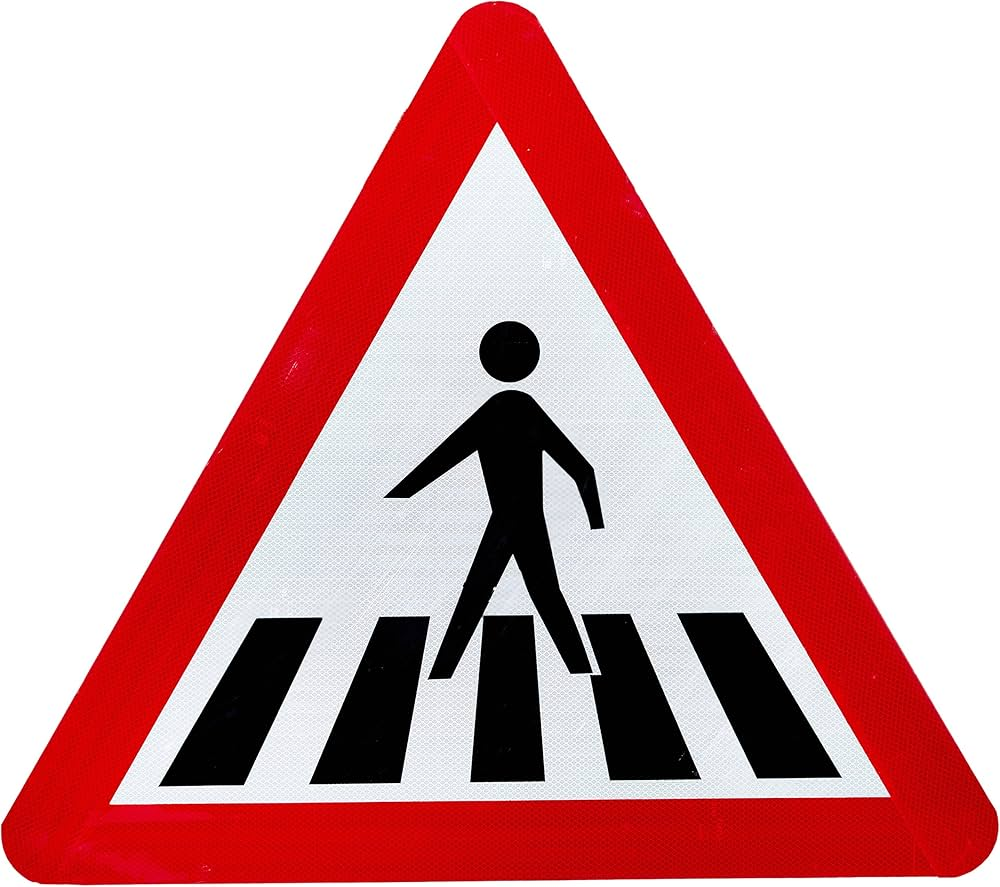CrossSign: (11, 11, 990, 878)
